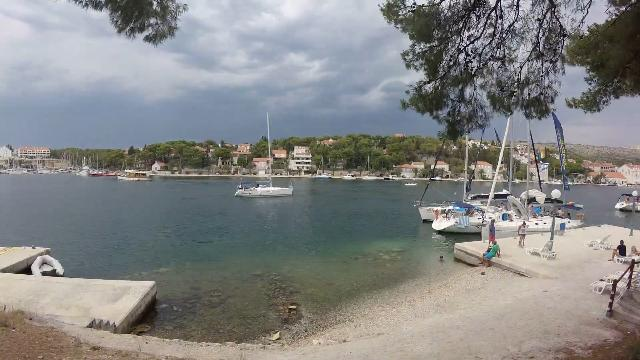Freighter: (113, 165, 153, 185)
Sailboat: (228, 178, 300, 202)
speedboat: (402, 179, 422, 191)
